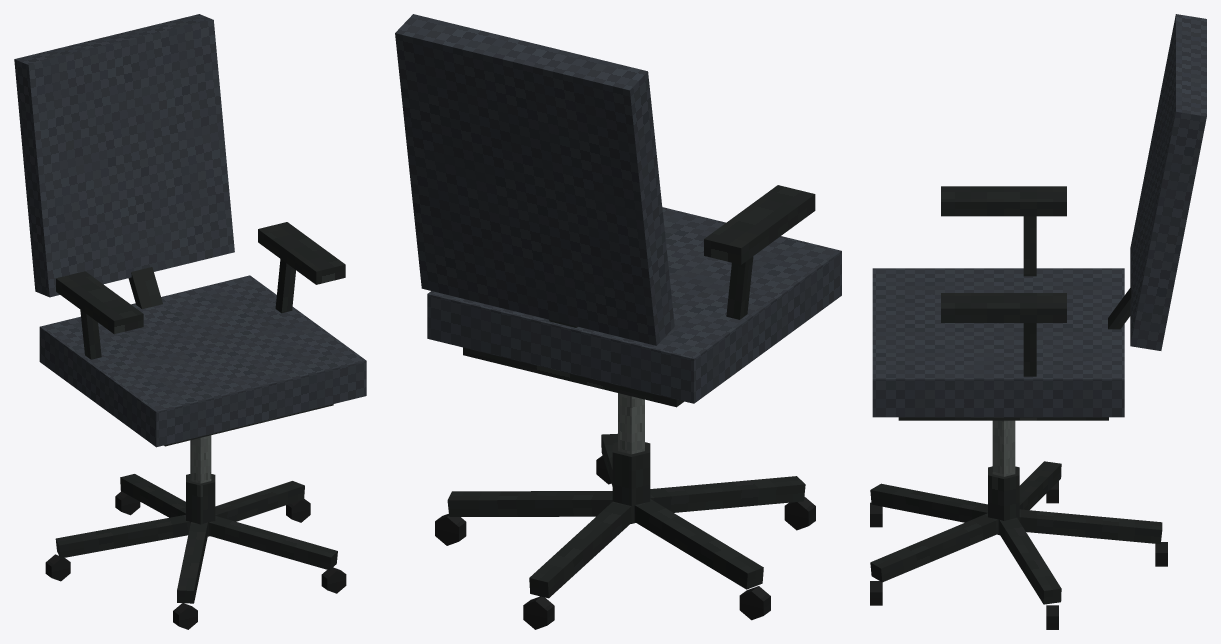
The model's file is office_chair.glb.
The picture shows the model from 3 angles, left to right: view 1: azimuth 30°, elevation 25°; view 2: azimuth 150°, elevation 25°; view 3: azimuth 270°, elevation 25°; orthographic projection. The views are drawn at different scales.
Parts seen in each view (by area): view 1: OfficeChair; view 2: OfficeChair; view 3: OfficeChair.
Part boxes in pixels (x1,y1,x2,y2): OfficeChair: [14, 14, 366, 629]; OfficeChair: [395, 14, 841, 629]; OfficeChair: [870, 14, 1206, 629].
Bounding box in the file's own units: 0.6157 × 1.06 × 0.6411.
4 materials, 4 textured.
